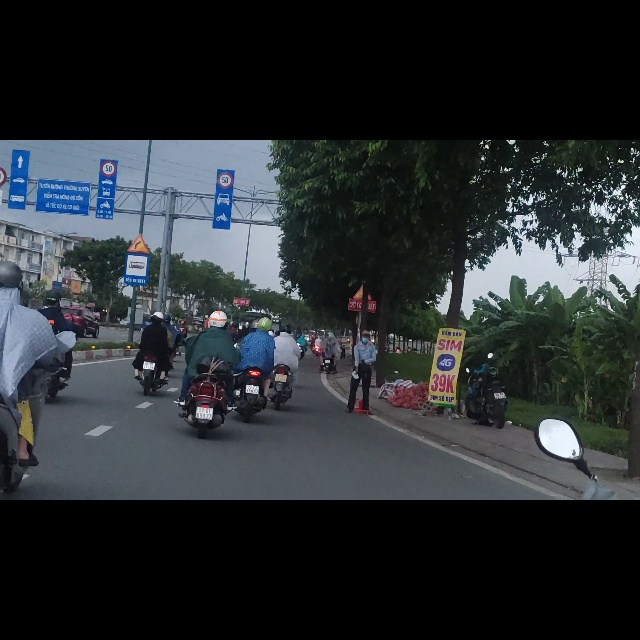bien_chi_dan: (124, 200, 149, 259), (126, 165, 148, 202), (101, 37, 117, 67), (217, 57, 233, 86)
